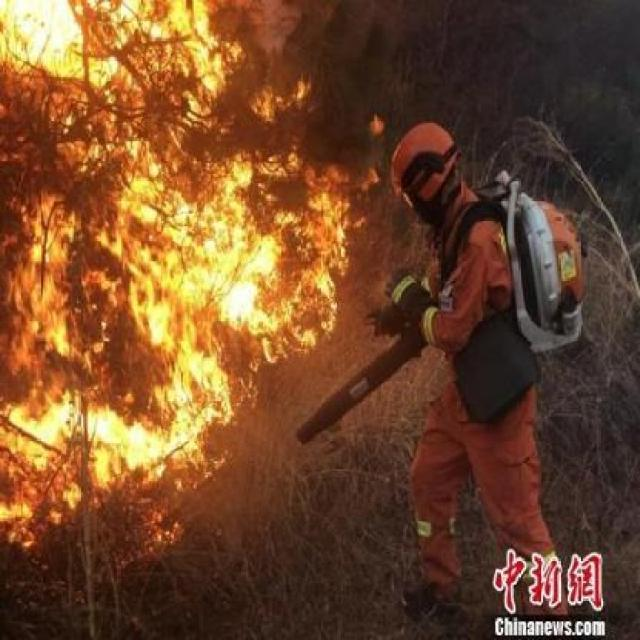Fire: (6, 4, 354, 566)
